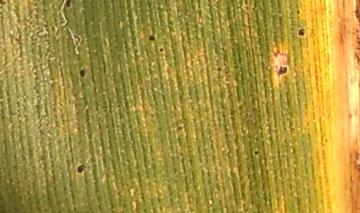tarspot: (274, 63, 290, 77), (294, 25, 308, 41), (73, 162, 87, 175), (76, 66, 88, 78), (147, 32, 158, 43), (250, 147, 261, 158), (62, 1, 75, 10), (156, 45, 166, 55), (215, 63, 225, 72), (295, 8, 302, 18), (1, 1, 9, 7)
